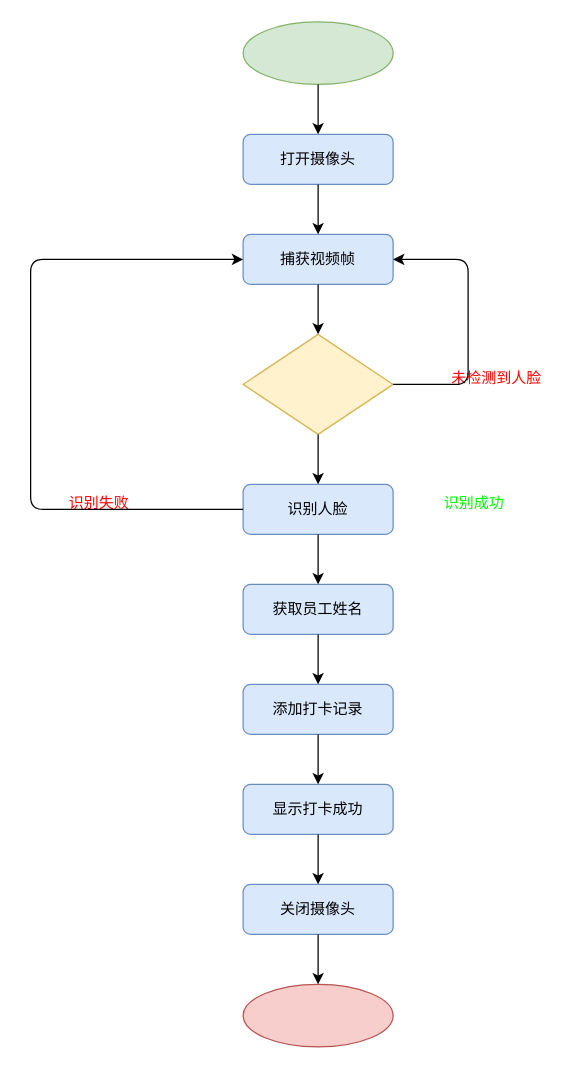
The diagram is 565 pixels wide and 1069 high, and some of its shapes have lost their labels. Each missing label, with the centre of its shape:
"开始" belongs at pixel 317 52.
"检测人脸" belongs at pixel 317 383.
"结束" belongs at pixel 317 1015.
